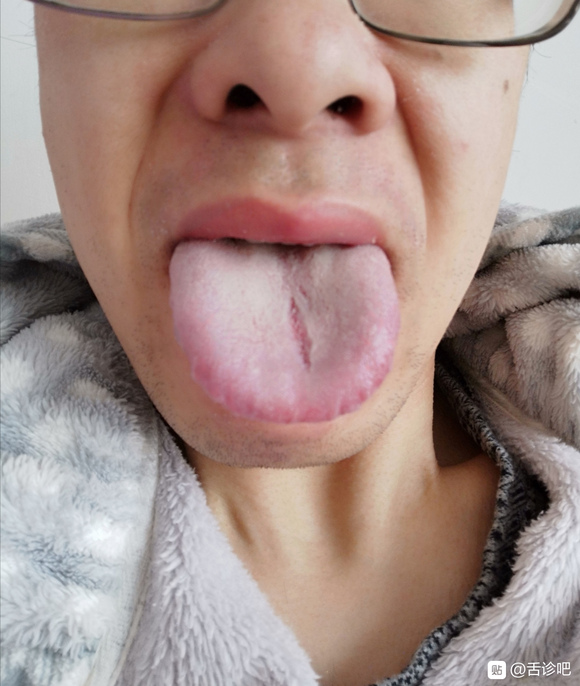baitaishe: (169, 239, 398, 423)
chihenshe: (194, 354, 274, 423), (320, 352, 392, 421)
liewenshe: (285, 281, 315, 375)
pangdashe: (169, 239, 398, 423)
